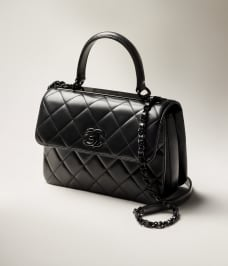channel: (26, 69, 190, 213), (75, 121, 110, 162)
